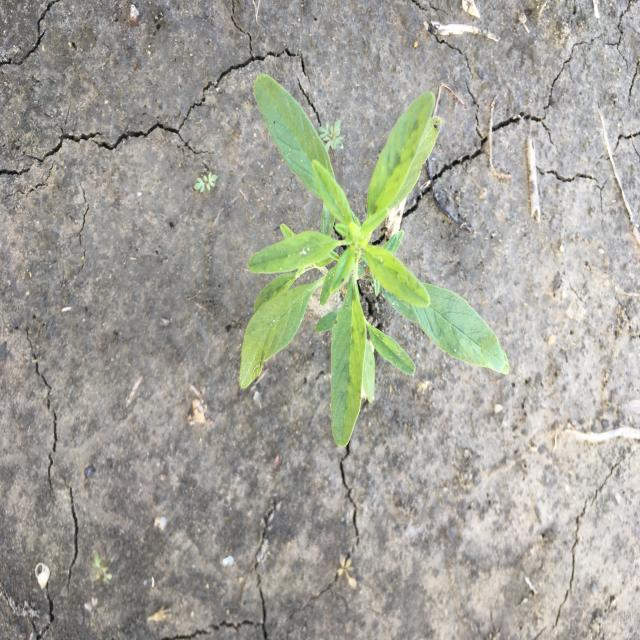Ragweed: (318, 119, 347, 155)
Waterhemp: (237, 71, 511, 449)
